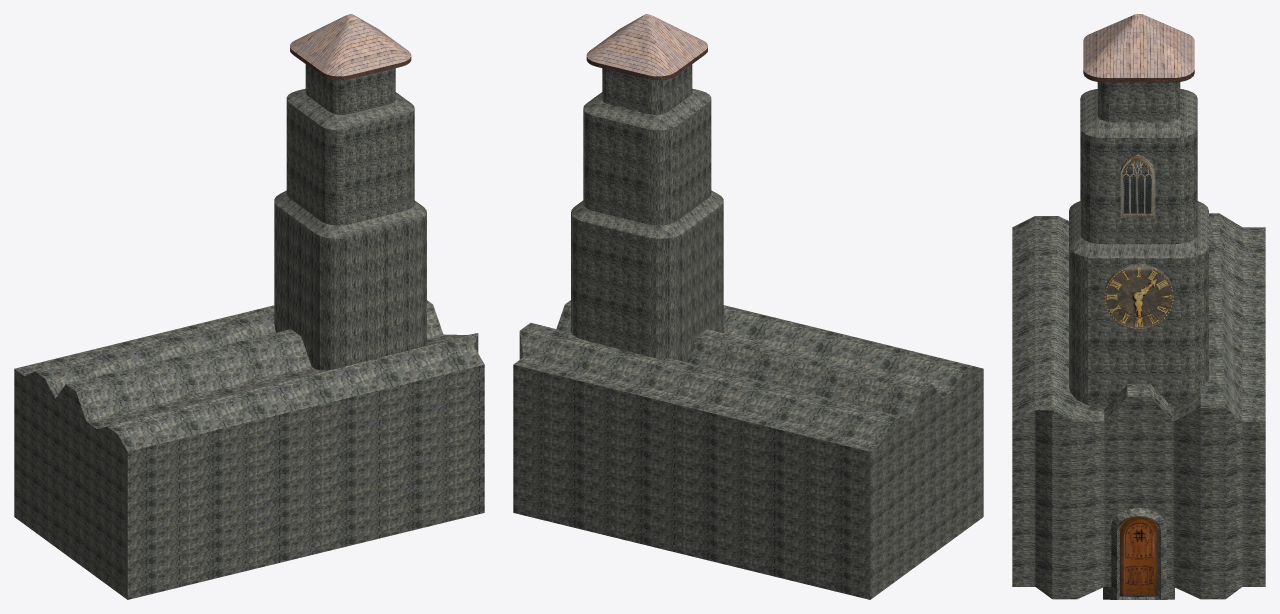
Rendered from church.fbx.
The picture shows the model from 3 angles, left to right: view 1: azimuth 30°, elevation 25°; view 2: azimuth 150°, elevation 25°; view 3: azimuth 270°, elevation 25°; orthographic projection. The views are drawn at different scales.
Visible parts, largest first — view 1: Cube, Cube.001; view 2: Cube, Cube.001; view 3: Cube, Cube.001, Cube.002.
Boxes of the visible parts, bbox=[...] form: Cube: bbox=[14, 300, 484, 599]; Cube.001: bbox=[274, 14, 426, 370]; Cube: bbox=[513, 300, 983, 599]; Cube.001: bbox=[571, 14, 723, 362]; Cube: bbox=[1012, 213, 1265, 599]; Cube.001: bbox=[1069, 14, 1208, 408]; Cube.002: bbox=[1120, 154, 1155, 217].
Size of the model in its own units: 24072 by 30557 by 12833.
